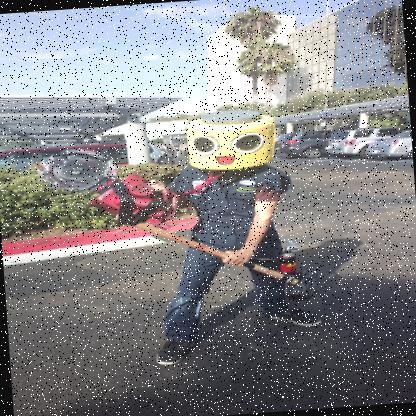Car: (0, 136, 175, 178), (0, 137, 160, 179), (321, 127, 412, 159), (277, 130, 332, 160), (362, 129, 412, 161), (274, 138, 290, 158)
